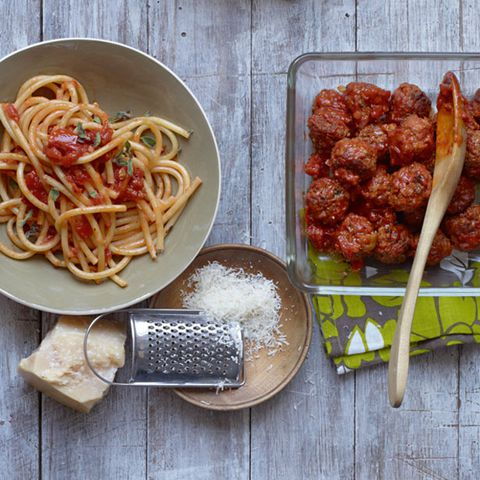meatballs: (311, 81, 480, 259)
plain spaghetti: (1, 83, 186, 270)
